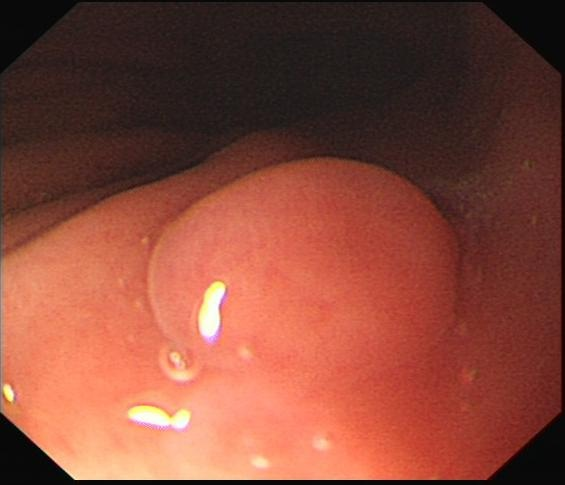Polyp: (141, 155, 465, 397)
